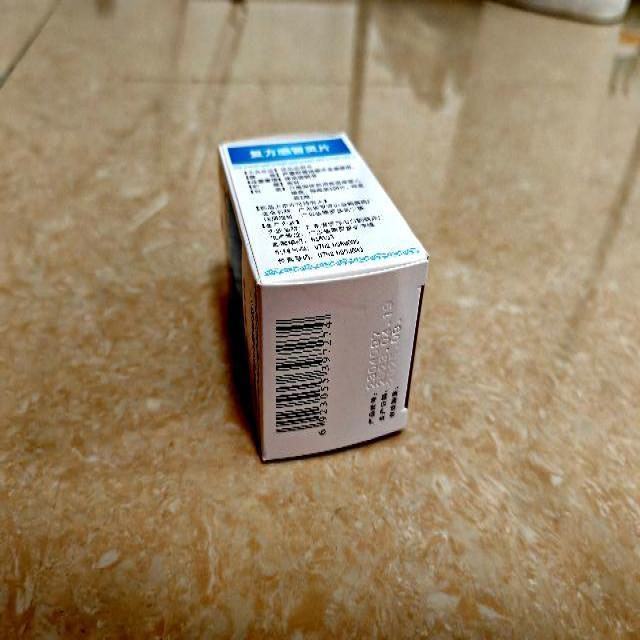box: (218, 129, 428, 463)
